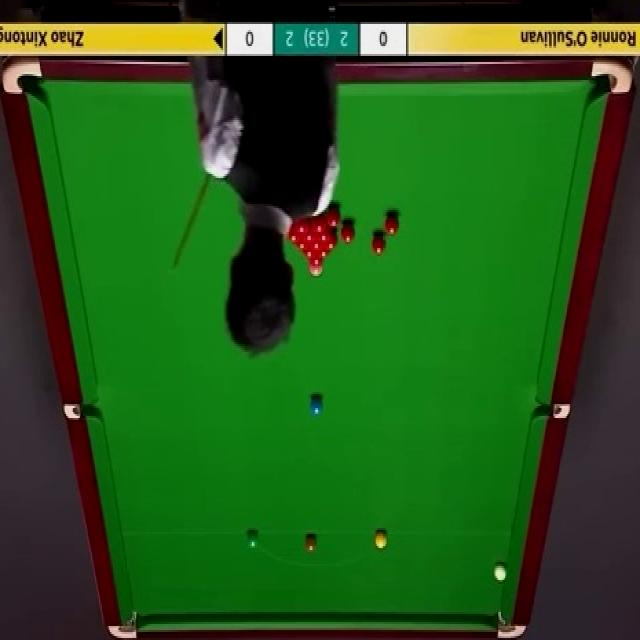blue-ball: (310, 398, 324, 415)
brown-ball: (305, 533, 317, 552)
green-ball: (245, 530, 260, 552)
pink-ball: (308, 262, 323, 276)
red-ball: (324, 207, 342, 230), (309, 213, 324, 235), (288, 222, 303, 244), (385, 214, 400, 236), (371, 235, 387, 255), (341, 223, 355, 243), (302, 221, 315, 242), (325, 239, 336, 251), (311, 238, 322, 250), (312, 253, 322, 265)
white-ball: (495, 562, 508, 582)
yellow-ball: (375, 530, 387, 550)
